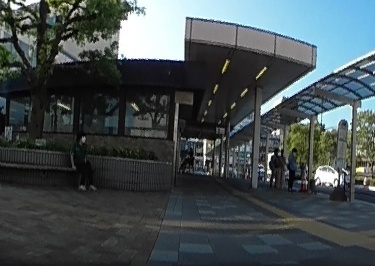person: (69, 129, 98, 192), (286, 144, 300, 192), (277, 149, 286, 182), (270, 150, 277, 184), (186, 146, 195, 171)
